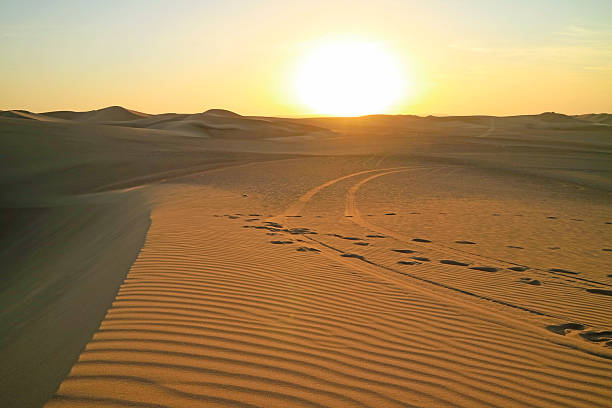human_foot_print: (546, 323, 611, 346), (579, 330, 611, 346), (546, 323, 584, 334), (585, 288, 611, 295), (439, 259, 469, 265), (519, 277, 541, 285), (549, 268, 578, 274), (340, 253, 364, 259), (296, 246, 320, 252), (470, 266, 498, 271), (507, 266, 529, 271), (391, 249, 417, 253), (270, 240, 293, 244), (397, 260, 420, 264), (412, 256, 429, 261), (455, 240, 475, 244), (412, 238, 431, 242), (354, 241, 369, 245), (366, 234, 385, 237), (507, 245, 523, 248)
